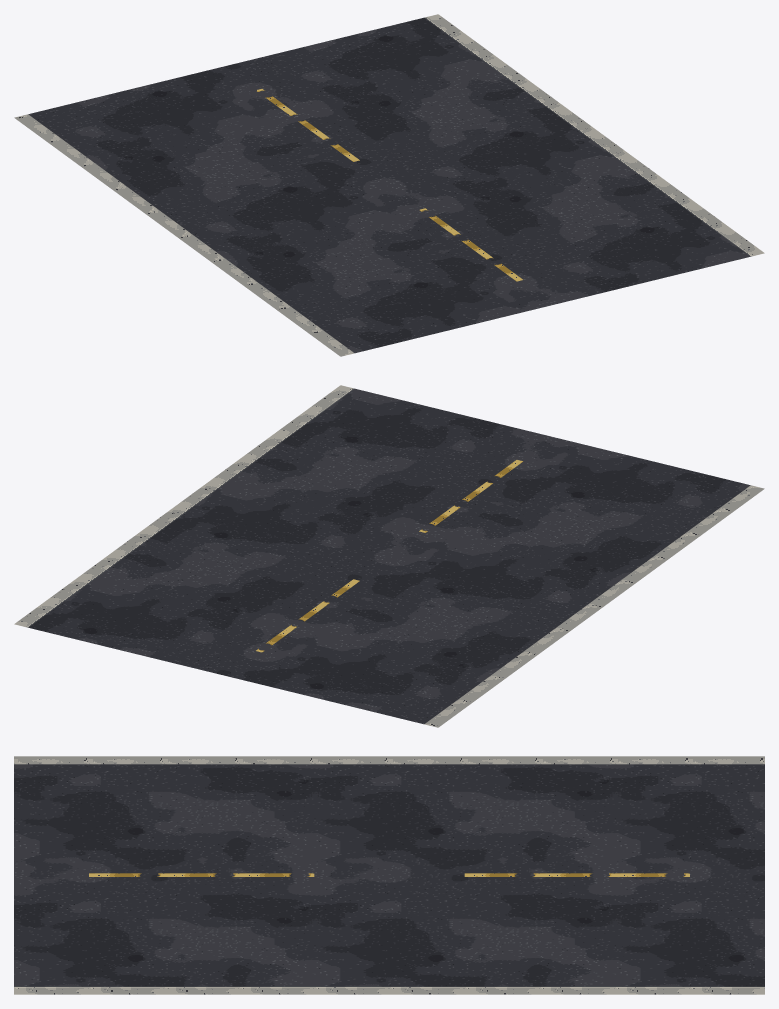
Rendered from RD_Straight_2Lane_10m.obj.
3 renders of one model, top to bottom at view 1: azimuth 30°, elevation 25°; view 2: azimuth 150°, elevation 25°; view 3: azimuth 270°, elevation 25°, orthographic. The views are drawn at different scales.
Parts seen in each view (by area): view 1: RD_Straight_2Lane_10m_Mesh_M_Road_Asphalt, RD_Straight_2Lane_10m_Mesh_M_Road_CurbConcrete, RD_Straight_2Lane_10m_Mesh_M_Road_MarkingYellow; view 2: RD_Straight_2Lane_10m_Mesh_M_Road_Asphalt, RD_Straight_2Lane_10m_Mesh_M_Road_CurbConcrete, RD_Straight_2Lane_10m_Mesh_M_Road_MarkingYellow; view 3: RD_Straight_2Lane_10m_Mesh_M_Road_Asphalt, RD_Straight_2Lane_10m_Mesh_M_Road_CurbConcrete, RD_Straight_2Lane_10m_Mesh_M_Road_MarkingYellow.
Part boxes in pixels (x1=…): RD_Straight_2Lane_10m_Mesh_M_Road_Asphalt: x1=28, y1=17, x2=750, y2=353; RD_Straight_2Lane_10m_Mesh_M_Road_CurbConcrete: x1=14, y1=14, x2=764, y2=356; RD_Straight_2Lane_10m_Mesh_M_Road_MarkingYellow: x1=256, y1=89, x2=522, y2=281; RD_Straight_2Lane_10m_Mesh_M_Road_Asphalt: x1=28, y1=388, x2=750, y2=724; RD_Straight_2Lane_10m_Mesh_M_Road_CurbConcrete: x1=14, y1=385, x2=764, y2=727; RD_Straight_2Lane_10m_Mesh_M_Road_MarkingYellow: x1=256, y1=460, x2=522, y2=652; RD_Straight_2Lane_10m_Mesh_M_Road_Asphalt: x1=14, y1=764, x2=764, y2=986; RD_Straight_2Lane_10m_Mesh_M_Road_CurbConcrete: x1=14, y1=756, x2=764, y2=994; RD_Straight_2Lane_10m_Mesh_M_Road_MarkingYellow: x1=89, y1=873, x2=689, y2=876.
Size of the model in its own units: 7.5 by 0.006 by 10.
Materials: 3 (3 with a texture image).
